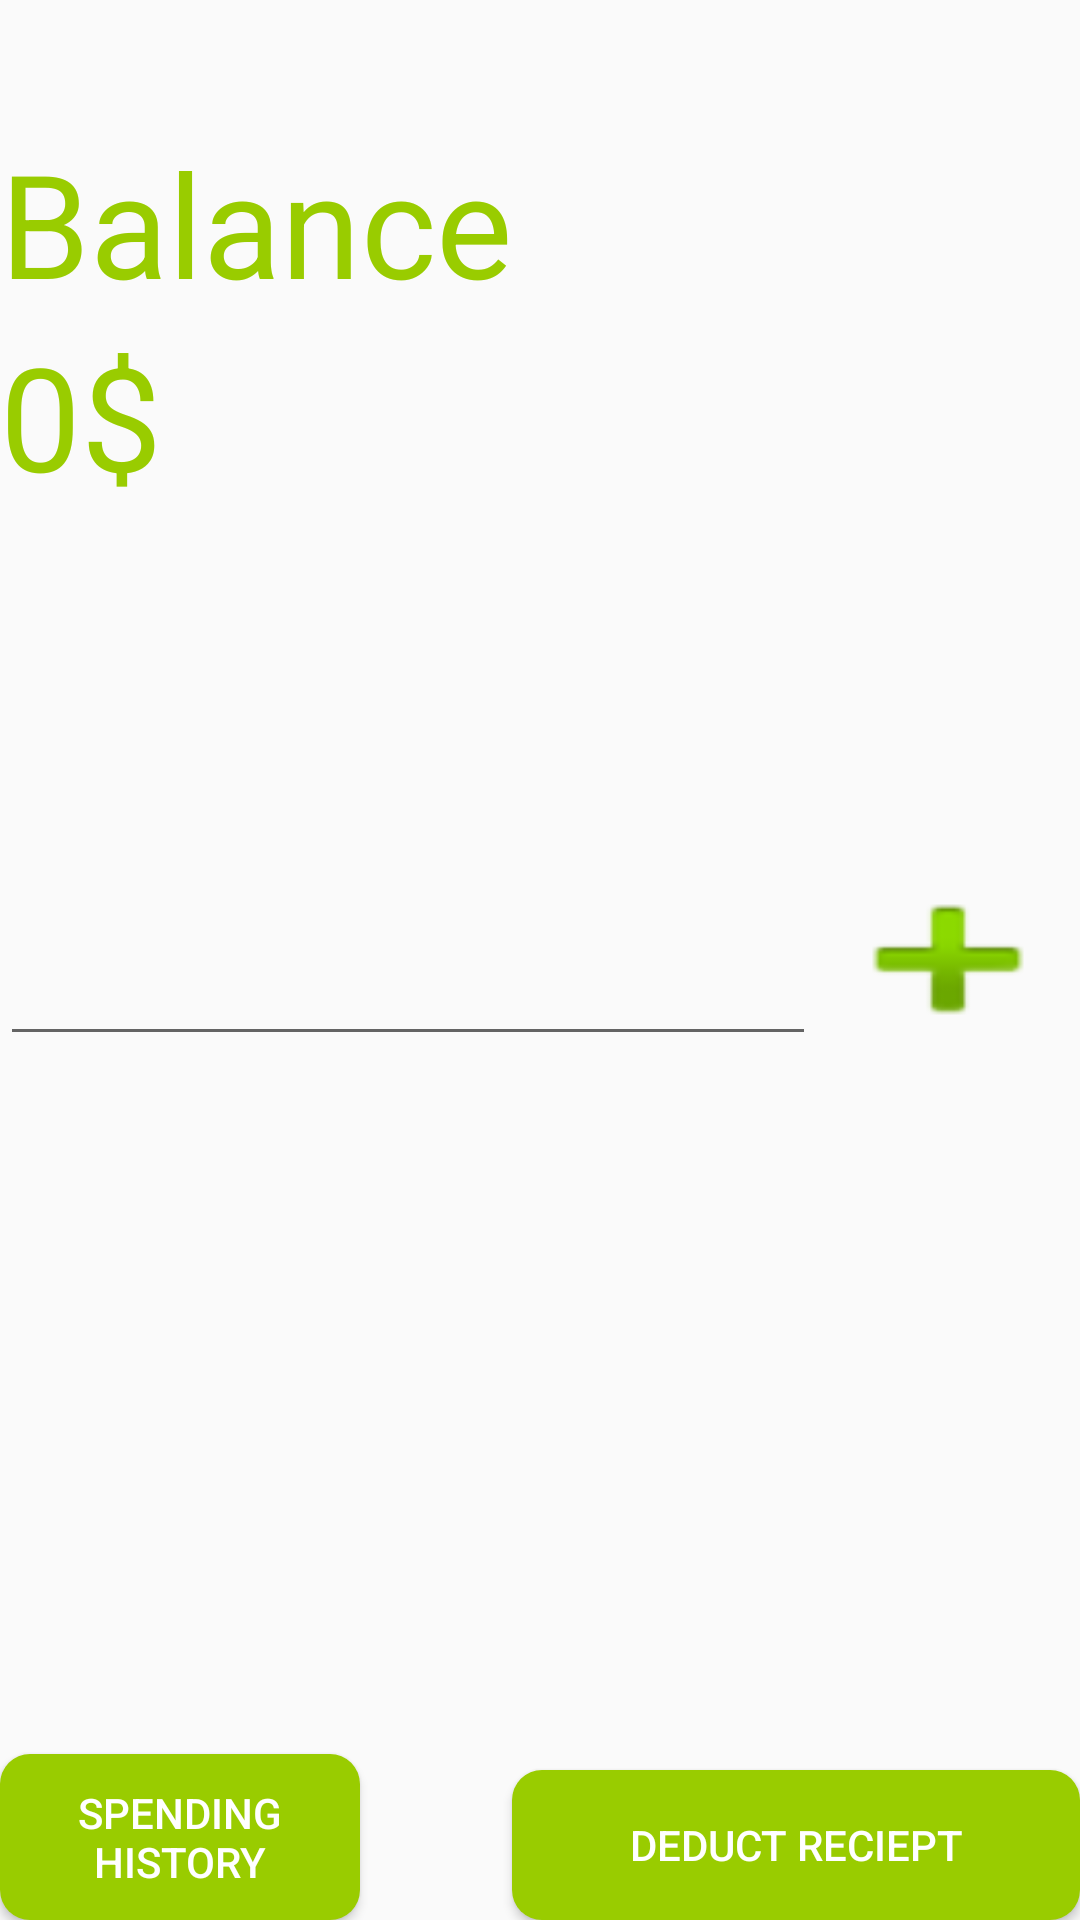

Named icons in this screenshot (1080*1920) and their bounding boxes, (x1, y1, x2, y2):
add: (873, 905, 1023, 1014)
